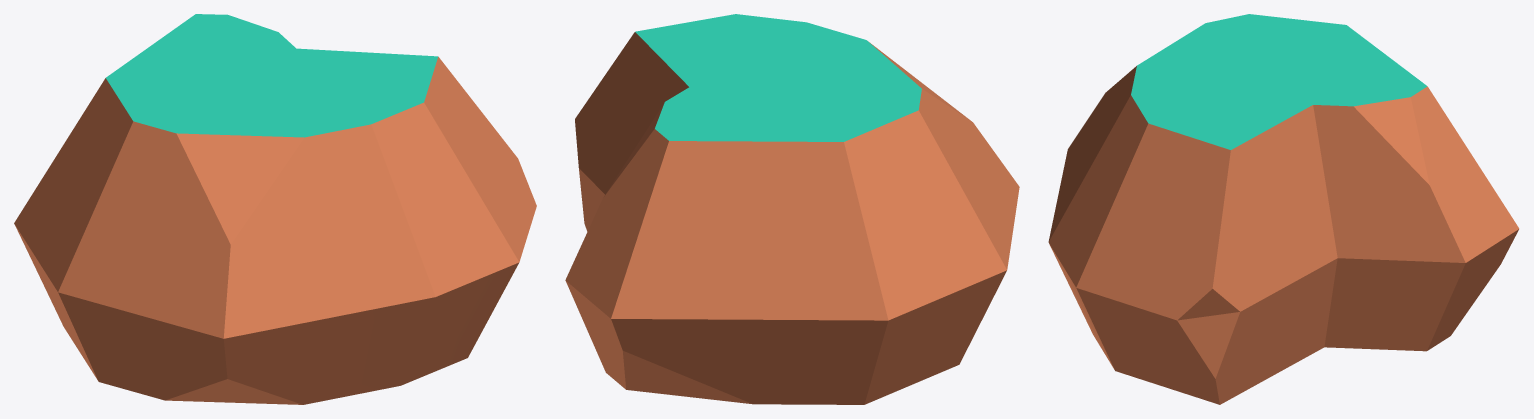
The model's file is rock_largeD.dae.
3 renders of one model, left to right at view 1: azimuth 30°, elevation 25°; view 2: azimuth 150°, elevation 25°; view 3: azimuth 270°, elevation 25°, orthographic. The views are drawn at different scales.
Visible parts, largest first — view 1: rock_largeD; view 2: rock_largeD; view 3: rock_largeD.
Part boxes in pixels (bbox=[...]): rock_largeD: bbox=[14, 14, 536, 404]; rock_largeD: bbox=[565, 14, 1019, 404]; rock_largeD: bbox=[1048, 14, 1519, 404].
Size of the model in its own units: 1.07 by 0.5683 by 1.03.
